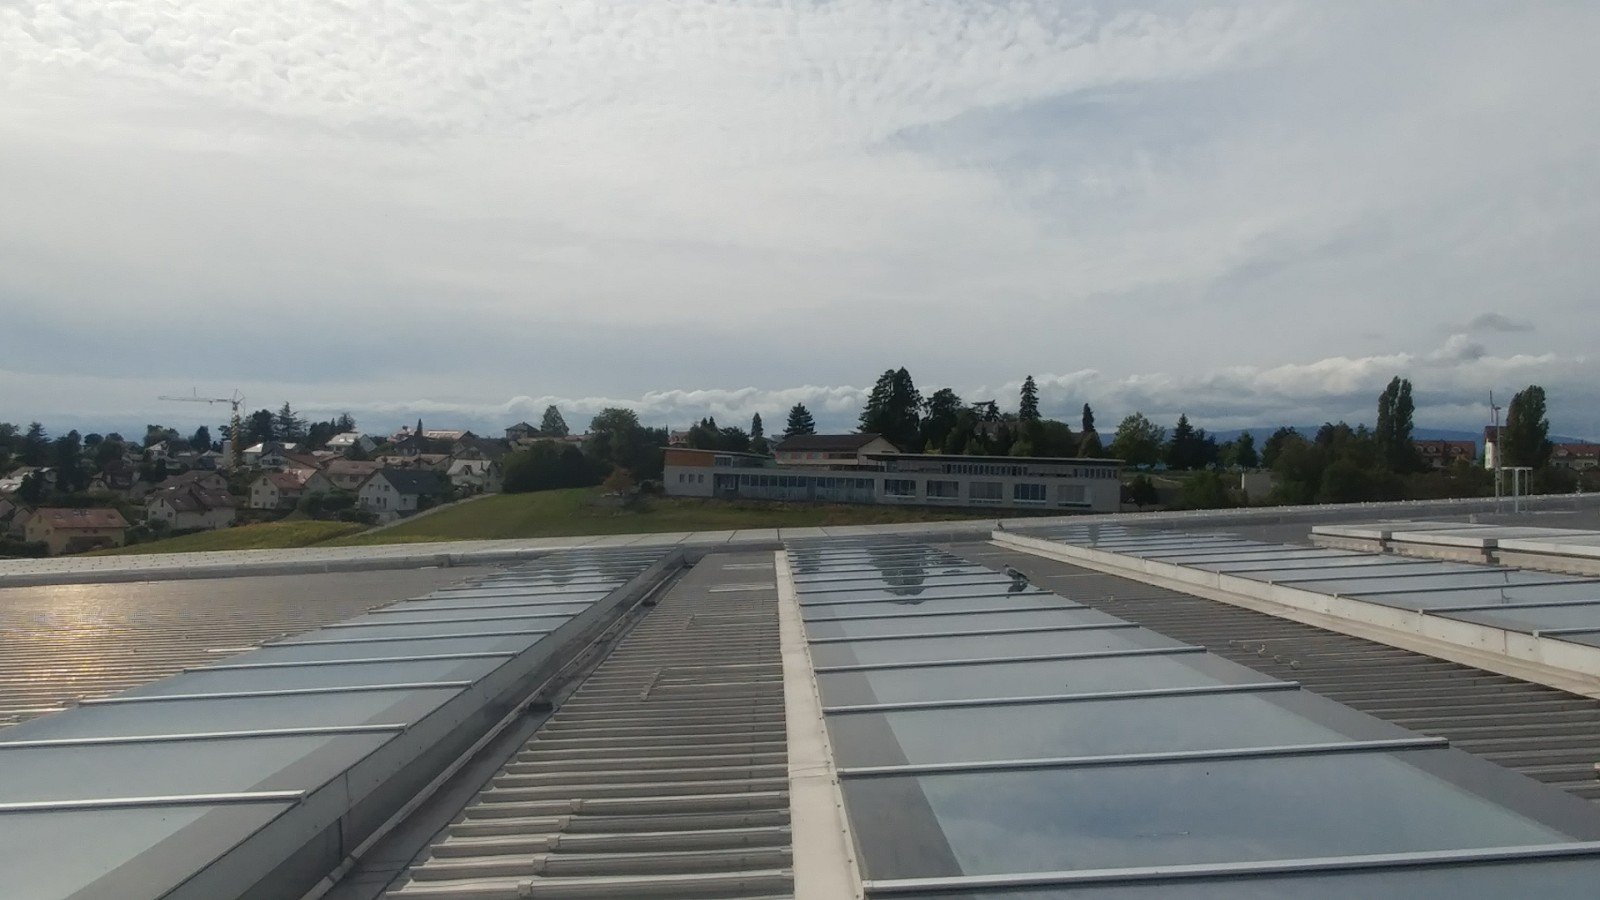Pigeon: (998, 559, 1035, 585)
